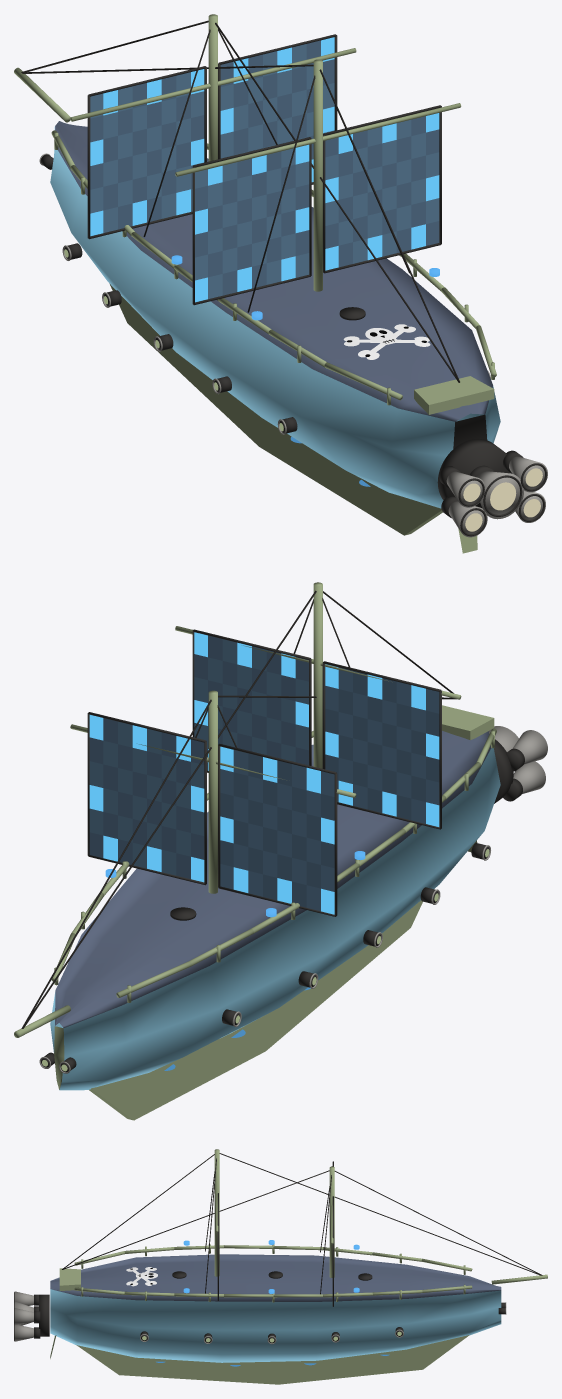
Rendered from Ship_Pirate_6.glb.
The picture shows the model from 3 angles, top to bottom: view 1: azimuth 30°, elevation 25°; view 2: azimuth 150°, elevation 25°; view 3: azimuth 270°, elevation 25°; orthographic projection. The views are drawn at different scales.
Visible parts, largest first — view 1: Hull_MetalSailingShipBody, SolarPanelSail_Main_01_RigidHeritageArray, SolarPanelSail_Fore_01_RigidHeritageArray, Keel_DeepSpaceSailingKeel, Mast_Main_DarkMetalHeritageSpar, SternTransom_LowReinforcedAftDeckCap, EngineDeck_AftTransomArmoredMount, EngineEmitter, Yard_Main_01_SolarPanelCrossSpar, Yard_Fore_01_SolarPanelCrossSpar, Mast_Fore_DarkMetalHeritageSpar, EngineBell_Center_IronRocketNozzle (+4 smaller); view 2: Hull_MetalSailingShipBody, SolarPanelSail_Fore_01_RigidHeritageArray, SolarPanelSail_Main_01_RigidHeritageArray, Keel_DeepSpaceSailingKeel, Mast_Fore_DarkMetalHeritageSpar, Mast_Main_DarkMetalHeritageSpar, SternTransom_LowReinforcedAftDeckCap, RiggingStay_Main_ForwardTautLine, RiggingStay_Fore_ForwardTautLine, EngineBell_PortUpper_IronRocketNozzle, EngineBell_PortLower_IronRocketNozzle, EngineDeck_AftTransomArmoredMount; view 3: Hull_MetalSailingShipBody, Keel_DeepSpaceSailingKeel, Mast_Main_DarkMetalHeritageSpar, RiggingStay_Main_ForwardTautLine, Mast_Fore_DarkMetalHeritageSpar, SternTransom_LowReinforcedAftDeckCap, EngineDeck_AftTransomArmoredMount, RiggingStay_Fore_AftTautLine, RiggingStay_Fore_ForwardTautLine.
Boxes of the visible parts, x1,y1,x2,y2 form: Hull_MetalSailingShipBody: (50,121,500,508); SolarPanelSail_Main_01_RigidHeritageArray: (195,113,439,302); SolarPanelSail_Fore_01_RigidHeritageArray: (90,37,334,236); Keel_DeepSpaceSailingKeel: (109,283,442,535); Mast_Main_DarkMetalHeritageSpar: (313,59,322,291); SternTransom_LowReinforcedAftDeckCap: (414,376,494,414); EngineDeck_AftTransomArmoredMount: (437,439,512,508); EngineEmitter: (463,468,542,531); Yard_Main_01_SolarPanelCrossSpar: (175,103,461,176); Yard_Fore_01_SolarPanelCrossSpar: (70,48,356,121); Mast_Fore_DarkMetalHeritageSpar: (208,14,217,161); EngineBell_Center_IronRocketNozzle: (477,471,523,519); Hull_MetalSailingShipBody: (50,731,500,1090); SolarPanelSail_Fore_01_RigidHeritageArray: (89,715,334,914); SolarPanelSail_Main_01_RigidHeritageArray: (194,632,439,826); Keel_DeepSpaceSailingKeel: (89,900,422,1120); Mast_Fore_DarkMetalHeritageSpar: (208,690,217,893); Mast_Main_DarkMetalHeritageSpar: (313,582,322,768); SternTransom_LowReinforcedAftDeckCap: (442,705,494,740); RiggingStay_Main_ForwardTautLine: (23,590,316,1028); RiggingStay_Fore_ForwardTautLine: (21,699,211,1028); EngineBell_PortUpper_IronRocketNozzle: (512,730,547,764); EngineBell_PortLower_IronRocketNozzle: (513,761,545,793); EngineDeck_AftTransomArmoredMount: (494,739,513,803); Hull_MetalSailingShipBody: (50,1254,501,1362); Keel_DeepSpaceSailingKeel: (76,1335,469,1384); Mast_Main_DarkMetalHeritageSpar: (214,1149,219,1276); RiggingStay_Main_ForwardTautLine: (219,1153,541,1275); Mast_Fore_DarkMetalHeritageSpar: (329,1166,334,1277); SternTransom_LowReinforcedAftDeckCap: (59,1268,80,1290); EngineDeck_AftTransomArmoredMount: (39,1294,49,1336); RiggingStay_Fore_AftTautLine: (62,1170,329,1269); RiggingStay_Fore_ForwardTautLine: (334,1171,542,1275).
Size of the model in its own units: 2.52 by 3.61 by 7.49.
